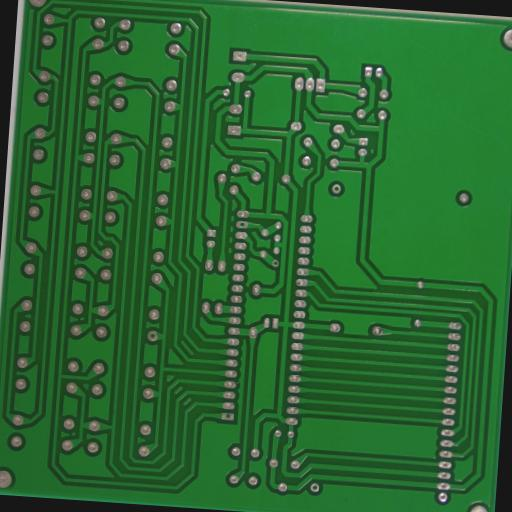missing_hole: (308, 482, 320, 493), (330, 184, 341, 194), (146, 331, 157, 341), (236, 220, 246, 230), (270, 259, 279, 268), (222, 412, 231, 421)
